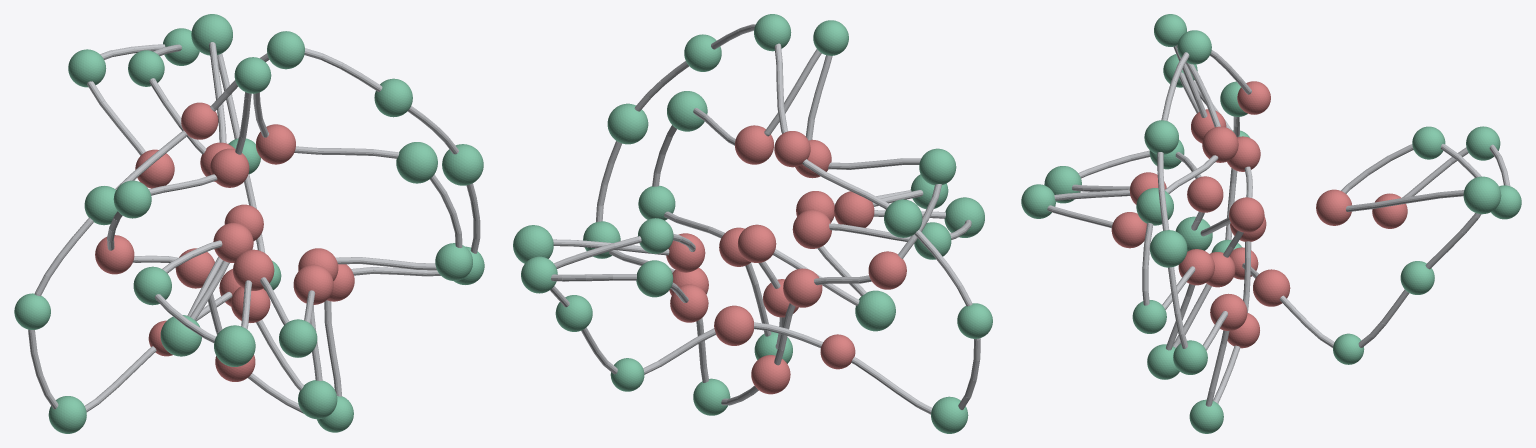
Rendered from proteina_1_40aa_8280297.glb.
3 renders of one model, left to right at view 1: azimuth 30°, elevation 25°; view 2: azimuth 150°, elevation 25°; view 3: azimuth 270°, elevation 25°, orthographic. The views are drawn at different scales.
Visible parts, largest first — view 1: geometry_468, geometry_477, geometry_488, geometry_499, geometry_467, geometry_478, geometry_474, geometry_465, geometry_480, geometry_471, geometry_466, geometry_490 (+25 smaller); view 2: geometry_471, geometry_488, geometry_496, geometry_477, geometry_470, geometry_478, geometry_483, geometry_484, geometry_499, geometry_468, geometry_492, geometry_482 (+28 smaller); view 3: geometry_499, geometry_488, geometry_496, geometry_470, geometry_478, geometry_500, geometry_472, geometry_486, geometry_465, geometry_489, geometry_477, geometry_475 (+23 smaller).
Boxes of the visible parts, x1,y1,x2,y2 form: geometry_468: (214,325,255,366); geometry_477: (396,142,437,183); geometry_488: (442,144,483,185); geometry_499: (191,14,232,55); geometry_467: (233,249,274,290); geometry_478: (256,124,295,164); geometry_474: (298,380,337,419); geometry_465: (293,264,333,304); geometry_480: (210,148,249,187); geometry_471: (160,315,201,356); geometry_466: (279,319,317,357); geometry_490: (267,31,304,69); geometry_471: (855,290,895,331); geometry_488: (607,103,648,144); geometry_496: (714,305,753,345); geometry_477: (667,91,707,131); geometry_470: (792,209,831,248); geometry_478: (735,125,773,164); geometry_483: (783,268,822,307); geometry_484: (751,355,790,394); geometry_499: (513,225,553,263); geometry_468: (944,197,984,237); geometry_492: (884,199,922,237); geometry_482: (868,251,906,289); geometry_499: (1463,176,1501,214); geometry_488: (1150,230,1187,267); geometry_496: (1253,269,1290,306); geometry_470: (1187,176,1223,212); geometry_478: (1202,126,1238,162); geometry_500: (1316,189,1351,225); geometry_472: (1229,197,1264,232); geometry_486: (1210,293,1247,330); geometry_465: (1111,212,1146,248); geometry_489: (1144,120,1178,154); geometry_477: (1136,188,1173,225); geometry_475: (1178,249,1214,285).
Size of the model in its own units: 15.77 by 14.26 by 17.2.
